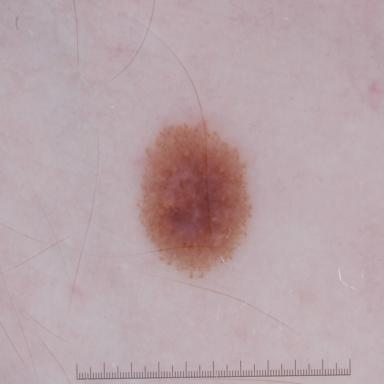nevus: (139, 121, 251, 278)
